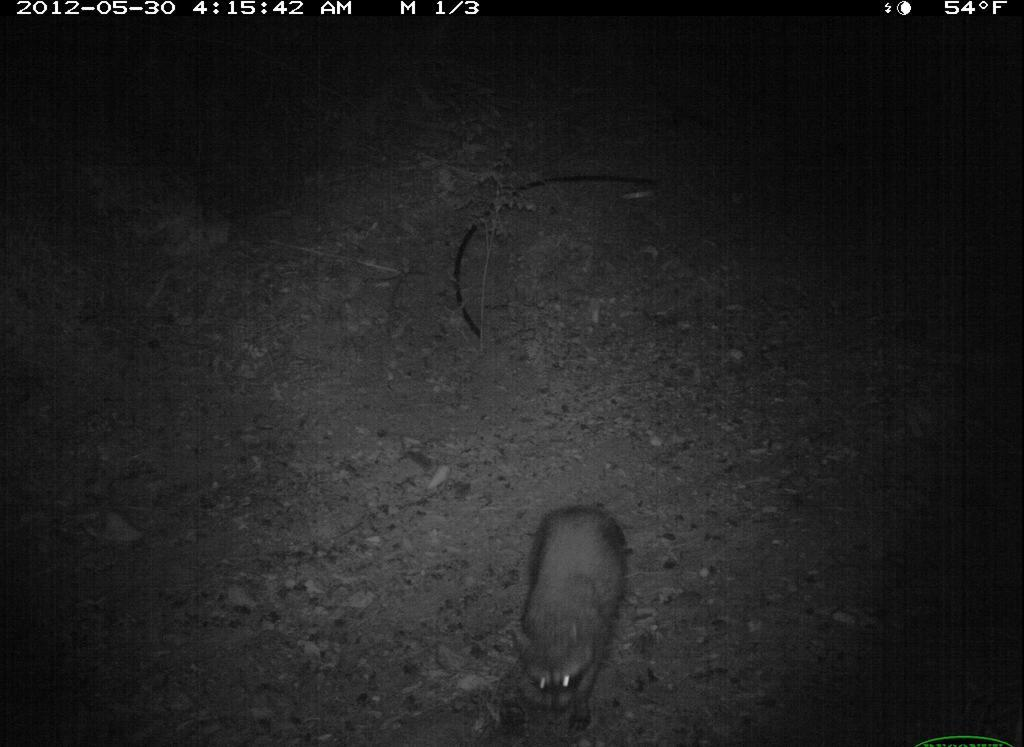raccoon: (502, 500, 644, 740)
